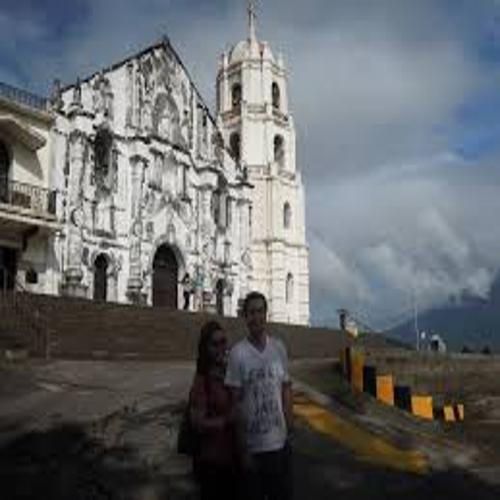Daraga Church: (51, 2, 314, 327)
